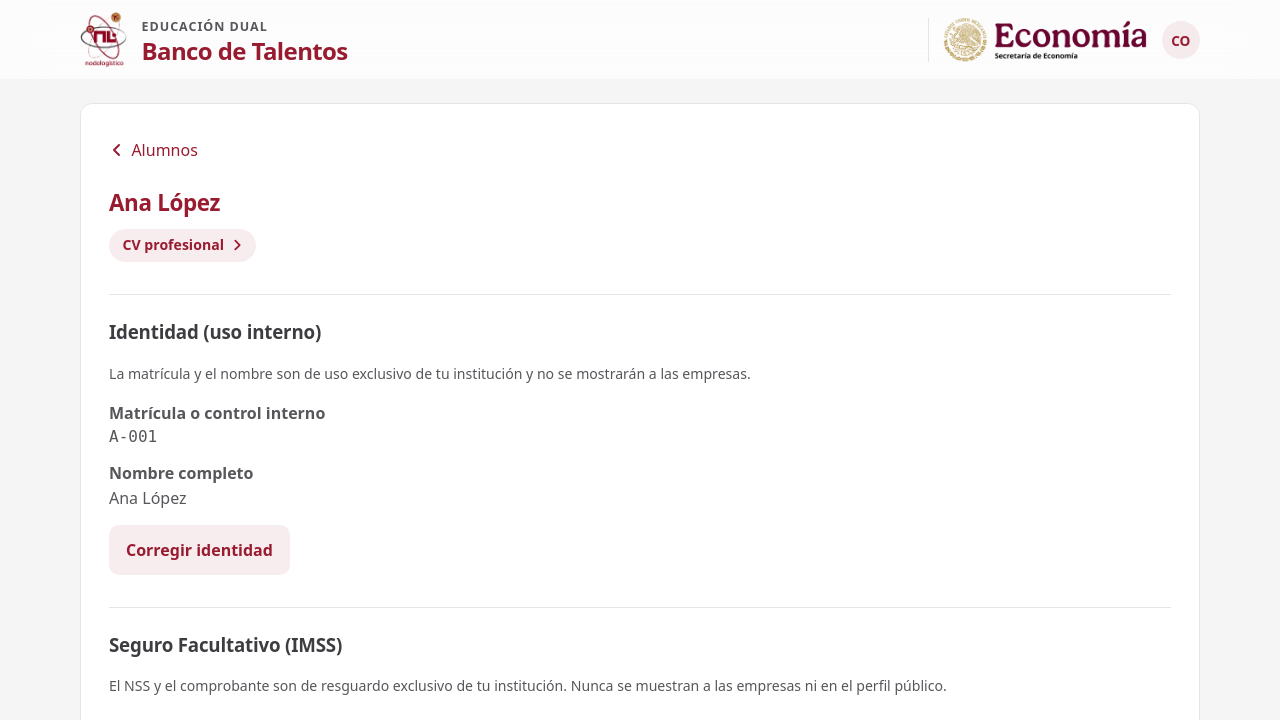
página del CV HU-S3-01 › se abre desde el detalle del alumno
Click the link "CV profesional" at (182, 245), box [109,229,256,262]
(page scrolled)
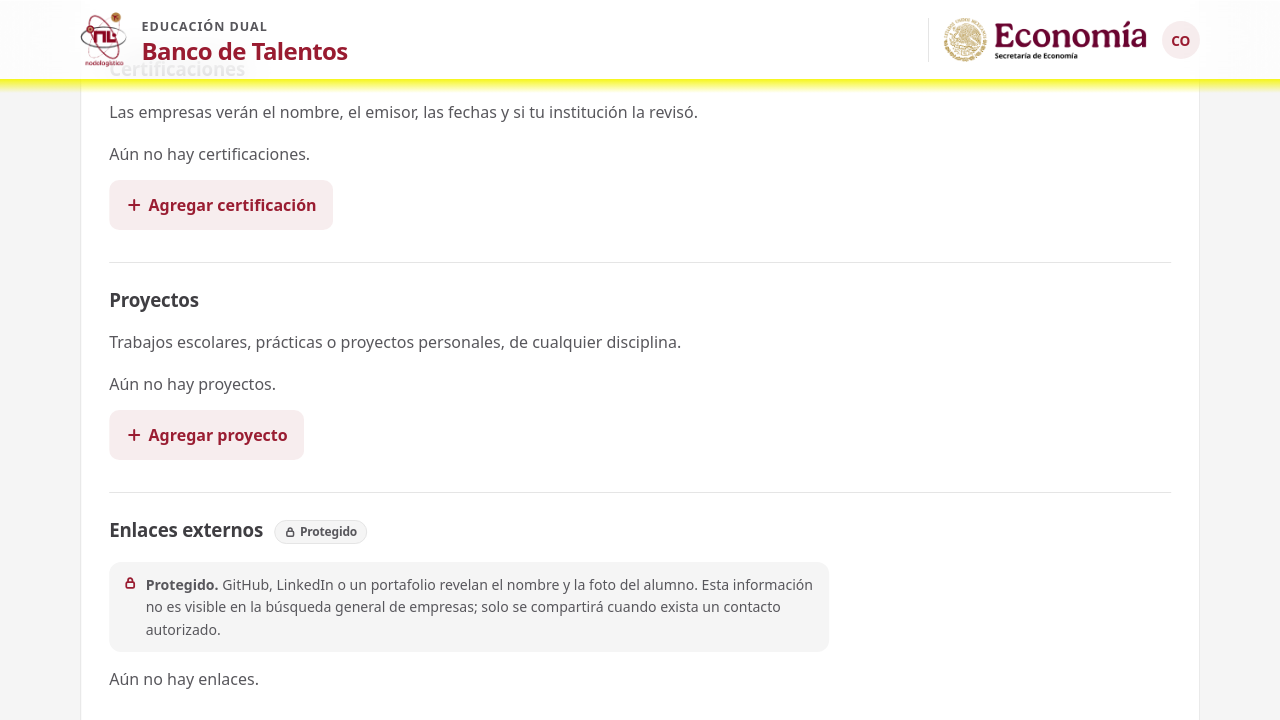
Expected: the element "Certificaciones" is shown, [109,31,1171,230]
Expected: the element "Proyectos" is shown, [109,262,1171,460]
